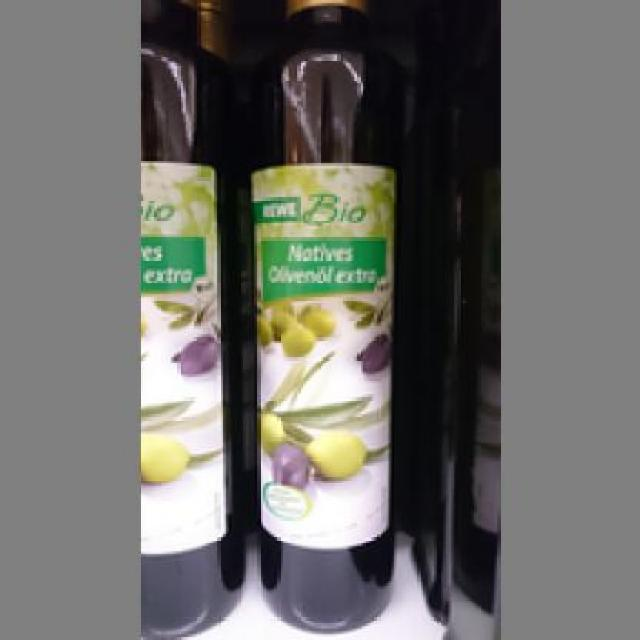Oil: (242, 0, 395, 626), (137, 0, 246, 635)
